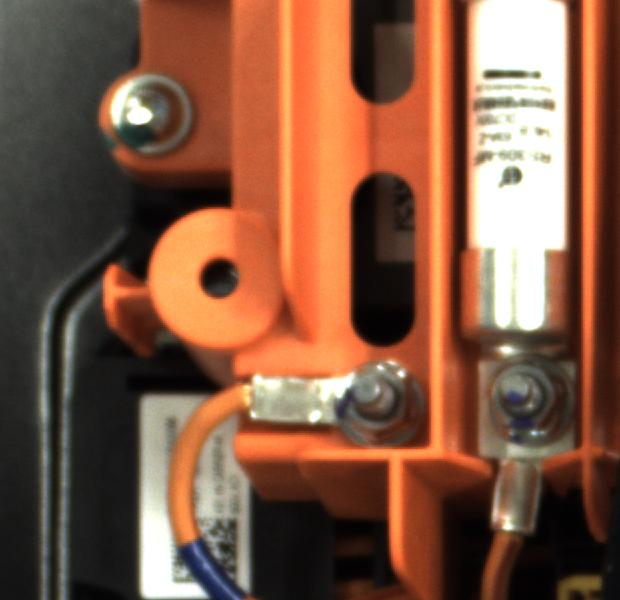screw_m: (94, 64, 203, 166)
screw_s: (321, 354, 425, 444), (486, 358, 567, 443)
